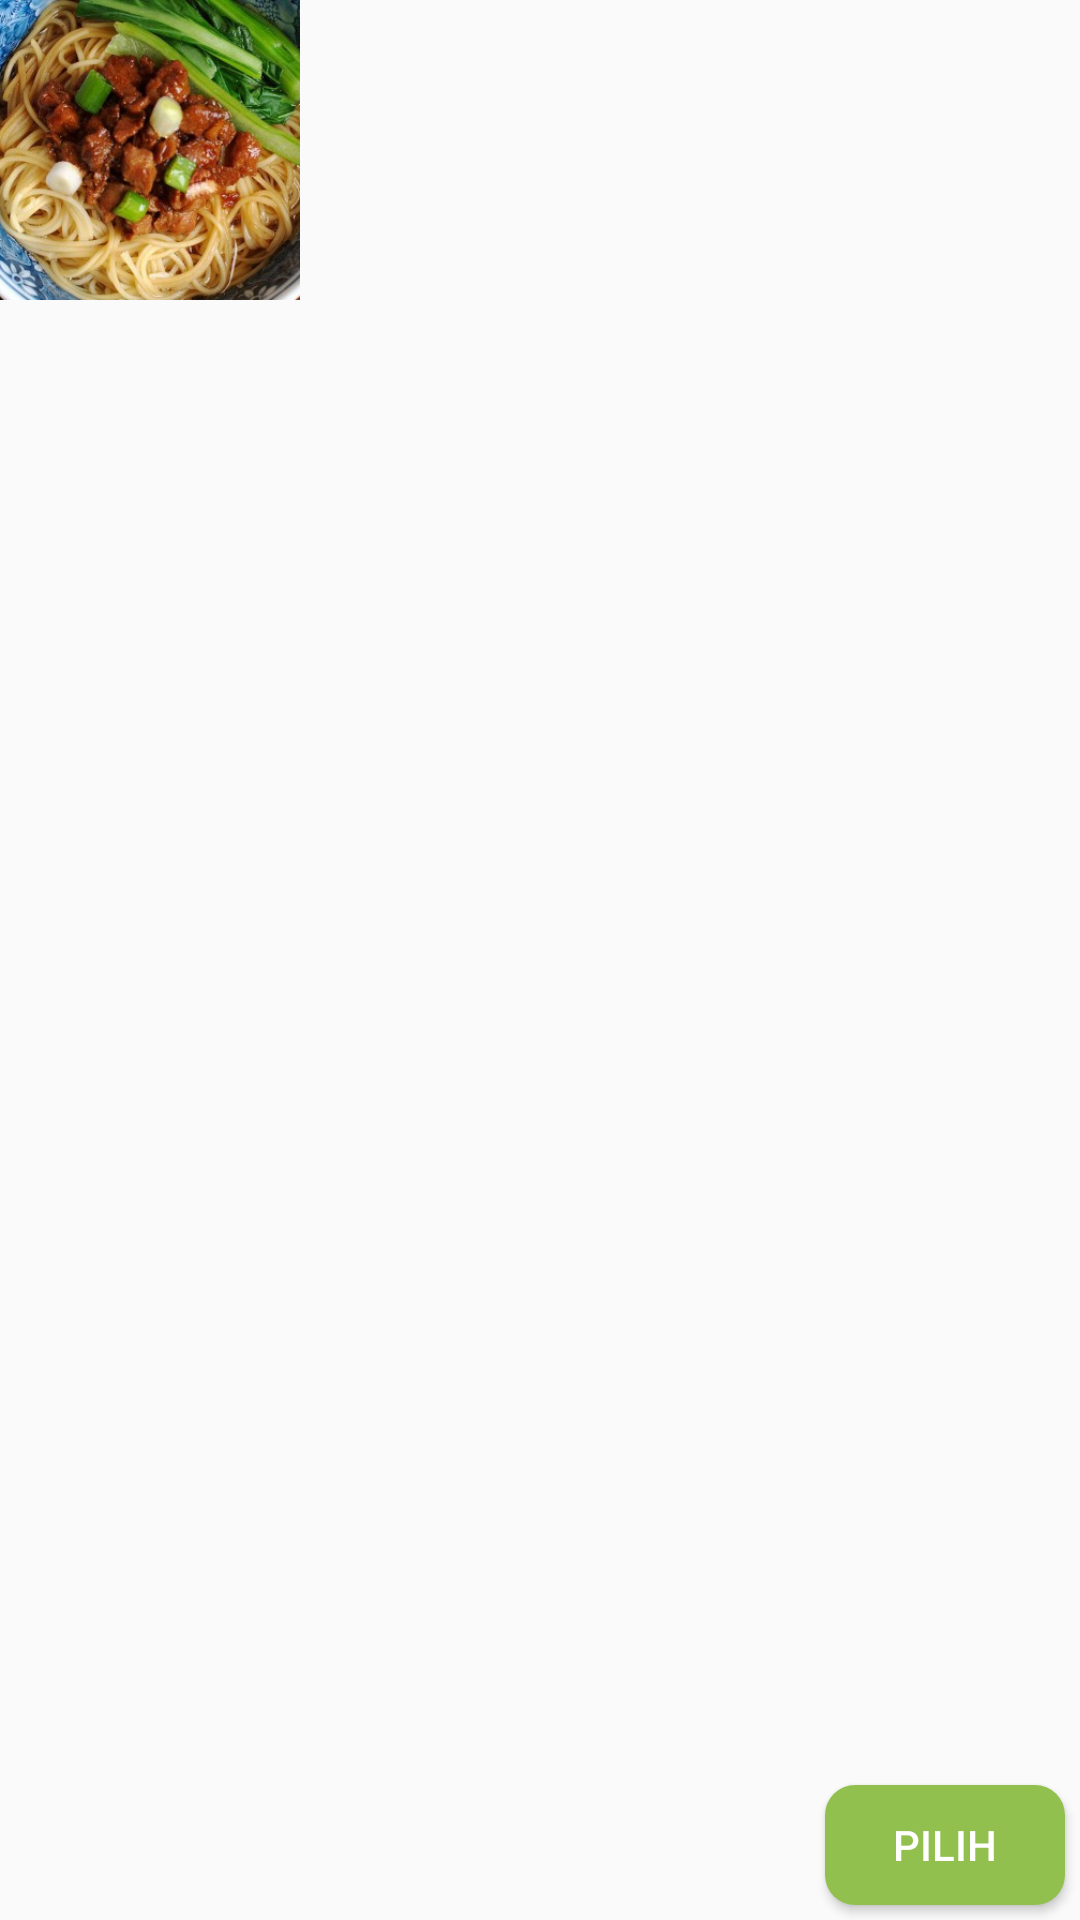

Screen size 1080 × 1920. Icon name, then its box in pixels as (x1, y1, x2, y2):
mie ayam: (0, 0, 300, 300)
